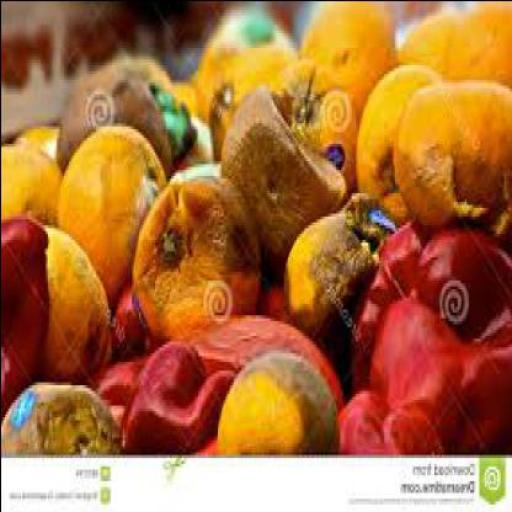biodegradable: (352, 212, 511, 453), (222, 84, 348, 270), (134, 172, 264, 338), (286, 189, 400, 378), (54, 122, 166, 303), (394, 75, 511, 236), (121, 335, 242, 454), (356, 58, 444, 215), (57, 61, 172, 180), (216, 346, 338, 454), (34, 218, 112, 384), (301, 0, 399, 117), (276, 50, 358, 180), (2, 216, 50, 418), (2, 376, 124, 454), (211, 41, 292, 157), (333, 387, 444, 451), (442, 1, 511, 86), (2, 140, 64, 227), (114, 268, 163, 355), (398, 8, 454, 72), (154, 78, 197, 148), (12, 119, 63, 163), (177, 111, 213, 166), (115, 50, 172, 84), (260, 264, 292, 314), (195, 44, 211, 114), (170, 81, 204, 113)
